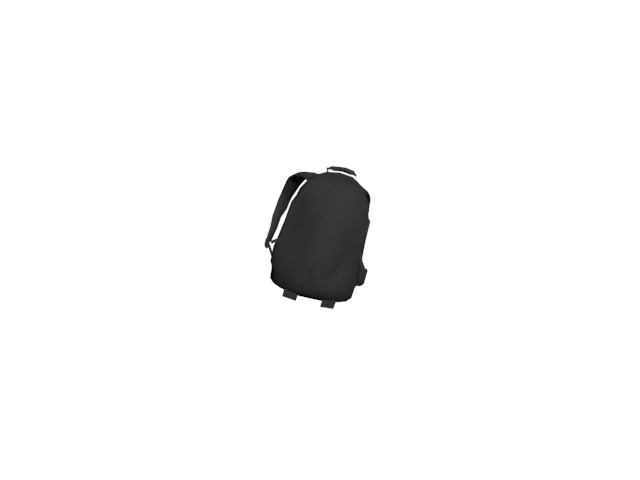back_pack: (265, 161, 376, 312)
